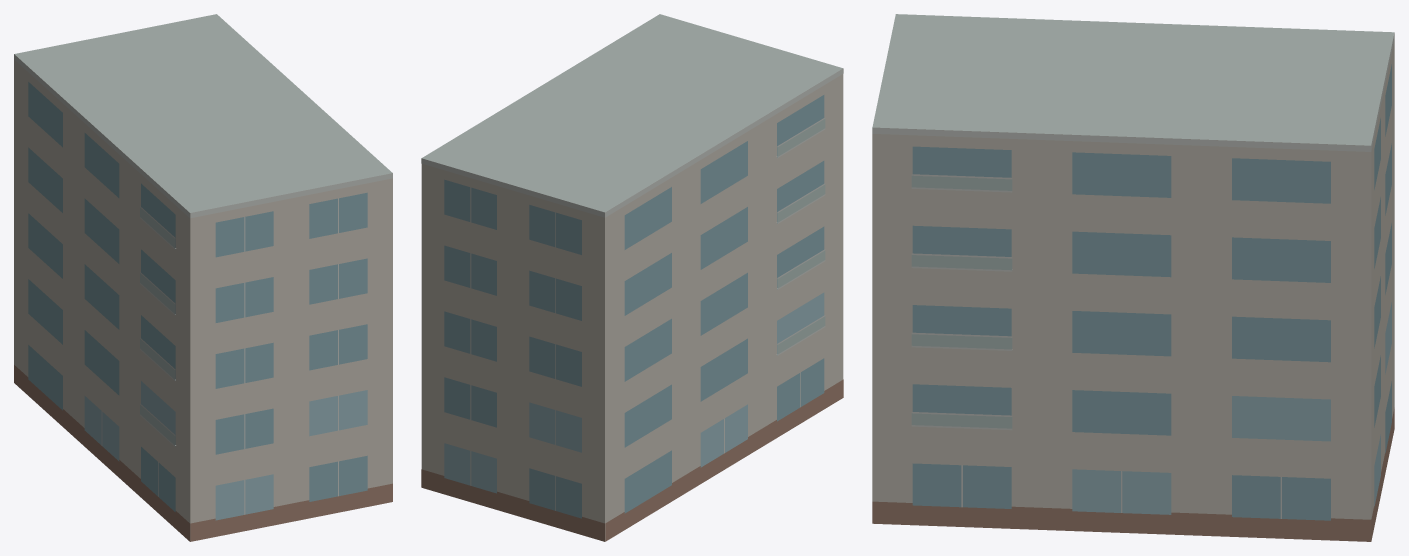
File: survey-upis-32606167.glb
3 views of the same model, side by side, from view 1: azimuth 30°, elevation 25°; view 2: azimuth 150°, elevation 25°; view 3: azimuth 270°, elevation 25° (orthographic). The views are drawn at different scales.
Parts seen in each view (by area): view 1: survey-upis-32606167.tmp; view 2: survey-upis-32606167.tmp; view 3: survey-upis-32606167.tmp.
Part boxes in pixels (left/top/right/bottom): survey-upis-32606167.tmp: left=14, top=14, right=392, bottom=541; survey-upis-32606167.tmp: left=421, top=14, right=843, bottom=541; survey-upis-32606167.tmp: left=872, top=14, right=1394, bottom=541.
Bounding box in the file's own units: 10.88 × 15.25 × 18.23.
